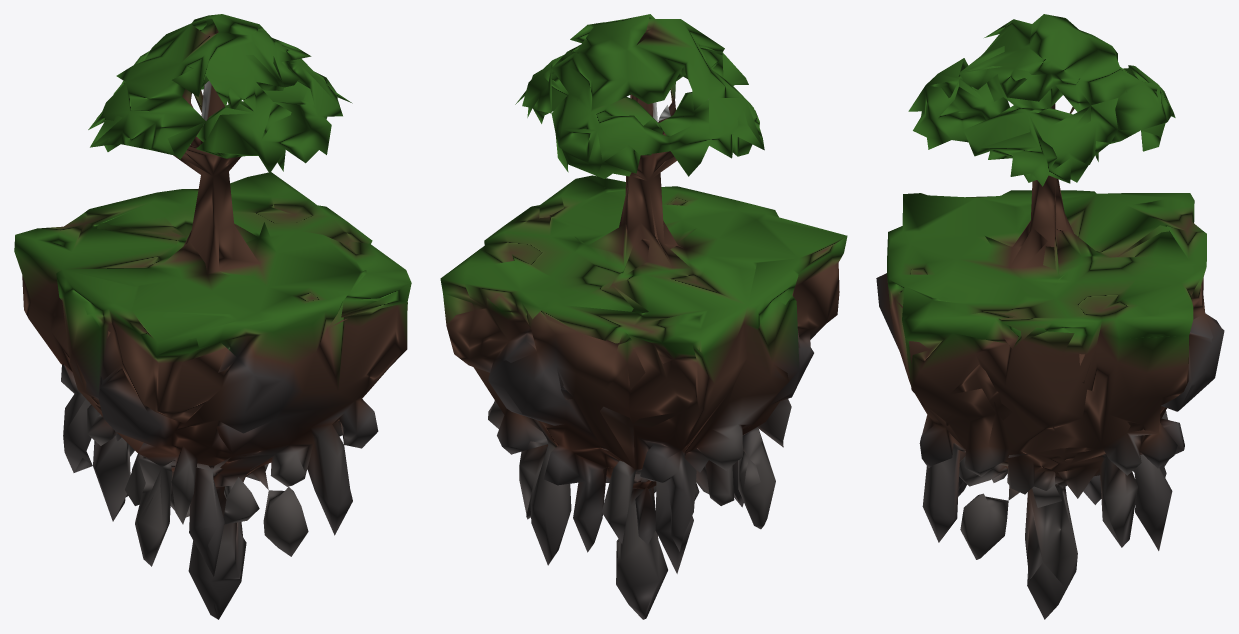
Rendered from gen3d-floating-island-lod0.glb.
3 renders of one model, left to right at view 1: azimuth 30°, elevation 25°; view 2: azimuth 150°, elevation 25°; view 3: azimuth 270°, elevation 25°, orthographic.
Visible parts, largest first — view 1: part_0; view 2: part_0; view 3: part_0.
Part boxes in pixels (x1=…): part_0: x1=14, y1=14, x2=411, y2=619; part_0: x1=440, y1=14, x2=847, y2=619; part_0: x1=876, y1=14, x2=1224, y2=619.
Bounding box in the file's own units: 0.478 × 0.9959 × 0.5215.
